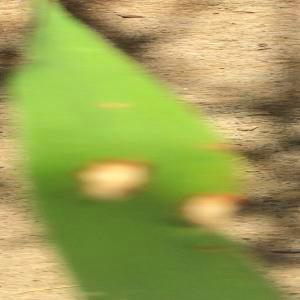1 RiceBlast: (58, 144, 169, 218), (168, 176, 257, 234)
